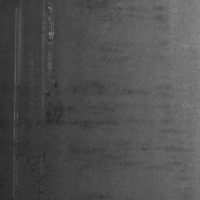scratches: (11, 3, 26, 135), (39, 3, 57, 77)
